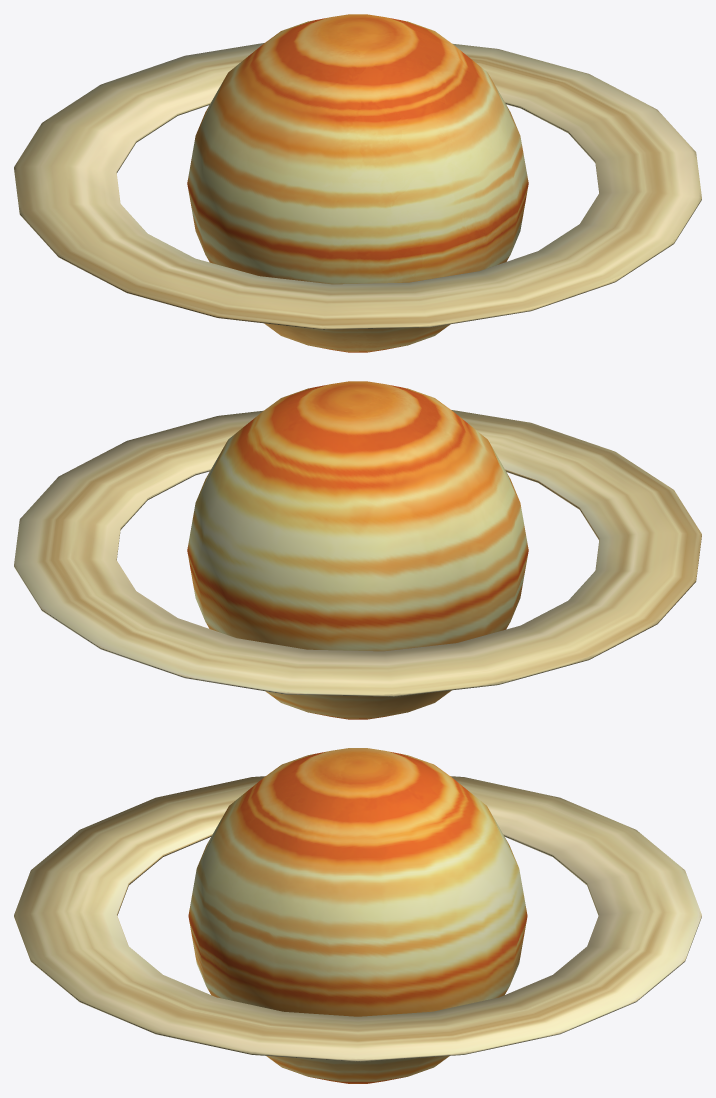
File: Planet_Saturn.fbx
3 views of the same model, one above another, from view 1: azimuth 30°, elevation 25°; view 2: azimuth 150°, elevation 25°; view 3: azimuth 270°, elevation 25° (orthographic).
Visible parts, largest first — view 1: Planet_Saturn, Planet_Saturn_Ring; view 2: Planet_Saturn, Planet_Saturn_Ring; view 3: Planet_Saturn, Planet_Saturn_Ring.
Part boxes in pixels (bbox=[...]): Planet_Saturn: bbox=[187, 14, 528, 352]; Planet_Saturn_Ring: bbox=[14, 43, 701, 329]; Planet_Saturn: bbox=[187, 381, 528, 719]; Planet_Saturn_Ring: bbox=[14, 410, 701, 696]; Planet_Saturn: bbox=[188, 748, 527, 1083]; Planet_Saturn_Ring: bbox=[14, 776, 701, 1061].
Size of the model in its own units: 405 by 200 by 406.
